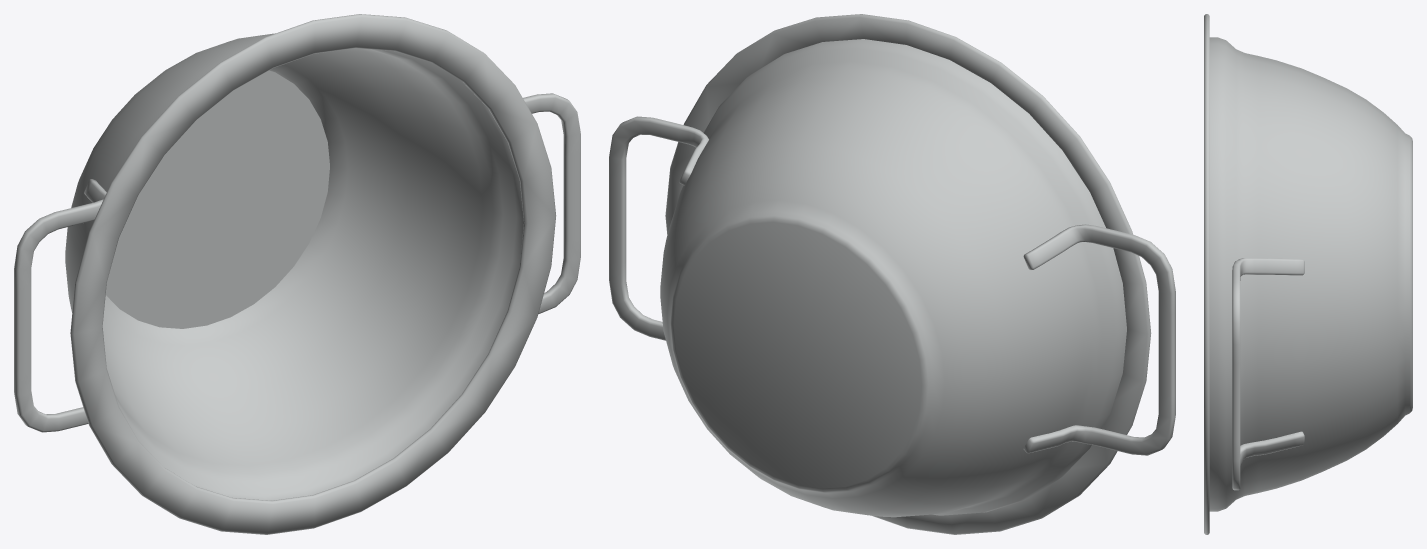
Rendered from MeshPot_12_0_GeomSubset_0.obj.
3 views of the same model, side by side, from view 1: azimuth 30°, elevation 25°; view 2: azimuth 150°, elevation 25°; view 3: azimuth 270°, elevation 25° (orthographic). The views are drawn at different scales.
Visible parts, largest first — view 1: MeshPot_12_0_GeomSubset_0; view 2: MeshPot_12_0_GeomSubset_0; view 3: MeshPot_12_0_GeomSubset_0.
Part boxes in pixels (x1,y1,x2,y2): MeshPot_12_0_GeomSubset_0: (14,14,580,534); MeshPot_12_0_GeomSubset_0: (609,14,1175,534); MeshPot_12_0_GeomSubset_0: (1204,14,1412,534).
Size of the model in its own units: 0.3893 by 0.3345 by 0.1338.
